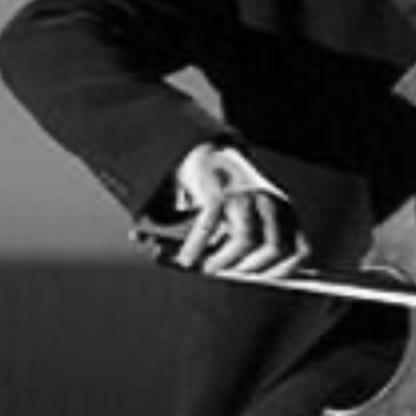good: (122, 118, 348, 296)
